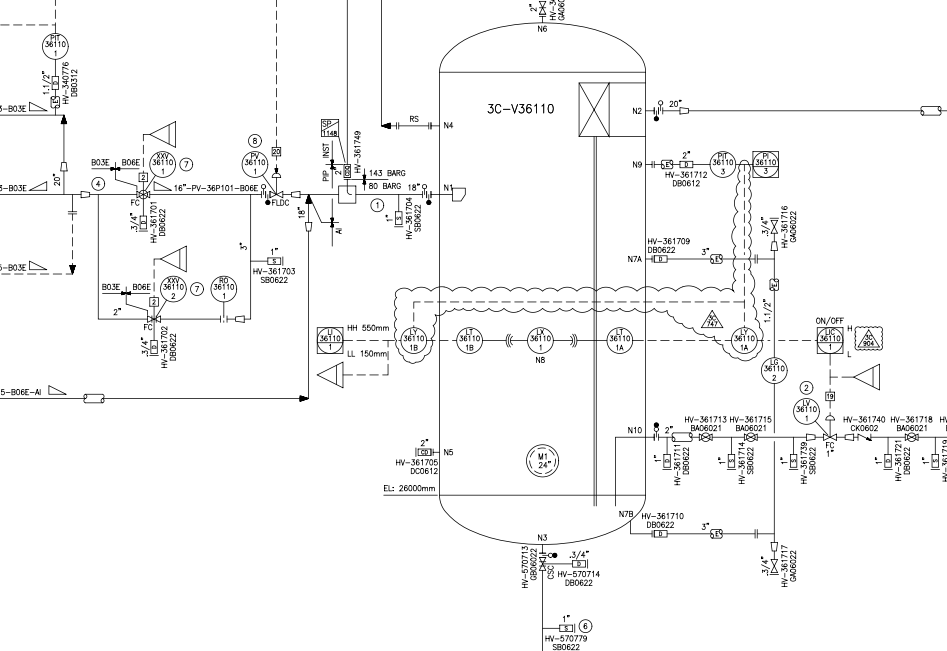Instrument: (759, 354, 791, 389), (453, 323, 485, 358), (40, 30, 73, 63), (603, 325, 637, 355), (523, 325, 558, 354), (208, 273, 240, 304), (145, 147, 177, 178), (397, 325, 430, 355), (728, 324, 759, 355), (157, 272, 187, 303), (791, 397, 821, 427), (241, 150, 269, 178)
Instrument-square: (749, 145, 784, 181), (810, 324, 848, 356)
